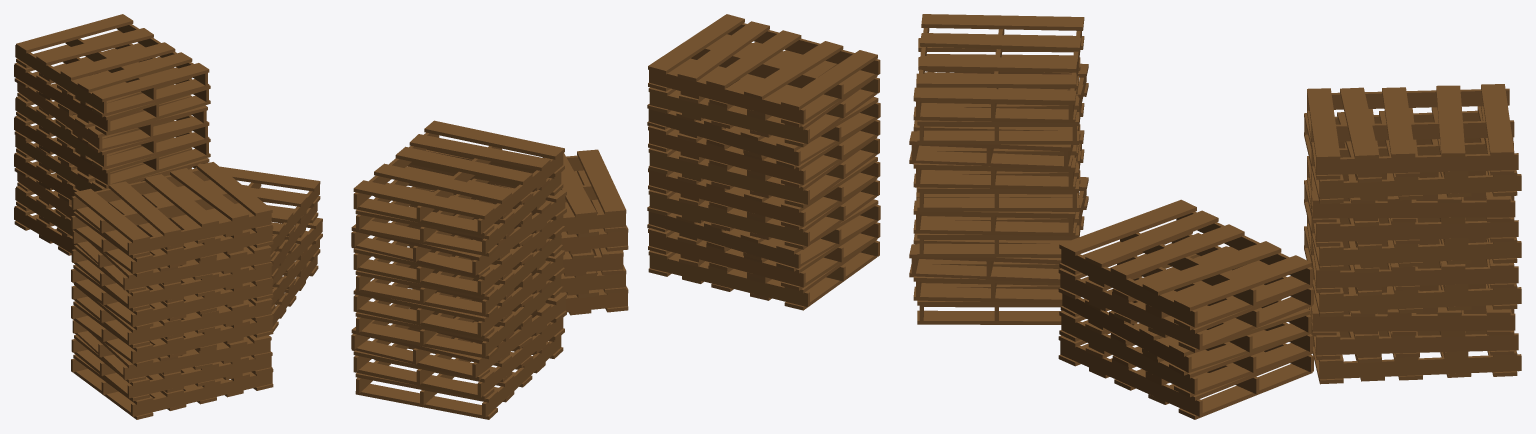
Rendered from Wooden_Plate-1_006.fbx.
3 renders of one model, left to right at view 1: azimuth 30°, elevation 25°; view 2: azimuth 150°, elevation 25°; view 3: azimuth 270°, elevation 25°, orthographic. The views are drawn at different scales.
Parts seen in each view (by area): view 1: Wooden Plate-7; view 2: Wooden Plate-7; view 3: Wooden Plate-7.
Part boxes in pixels (x1,y1,x2,y2): Wooden Plate-7: (14,14,322,419); Wooden Plate-7: (351,14,880,419); Wooden Plate-7: (909,14,1521,419).
Bounding box in the file's own units: 3.52 × 2 × 4.93.
